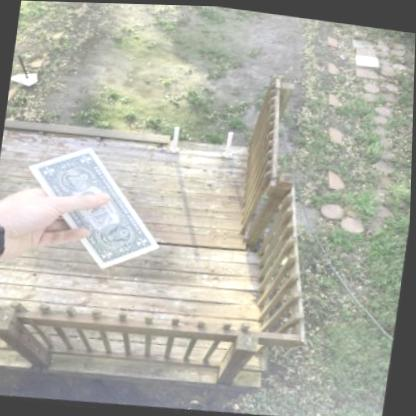one-back: (29, 147, 161, 270)
